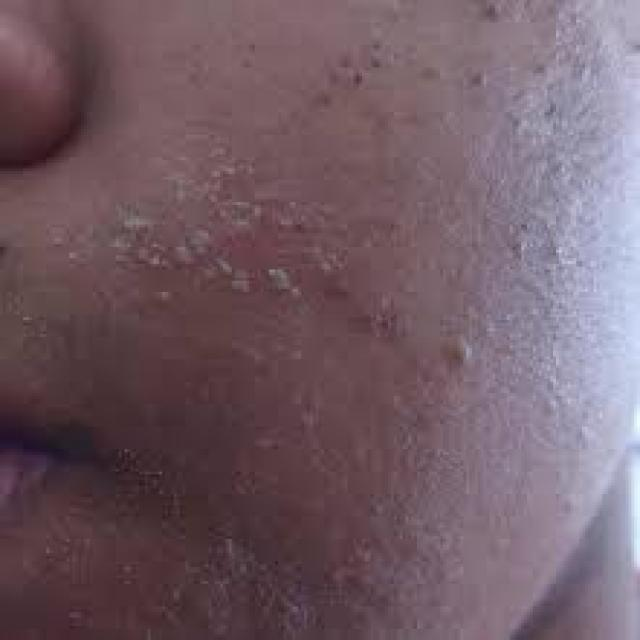flakiness: (82, 119, 334, 297)
